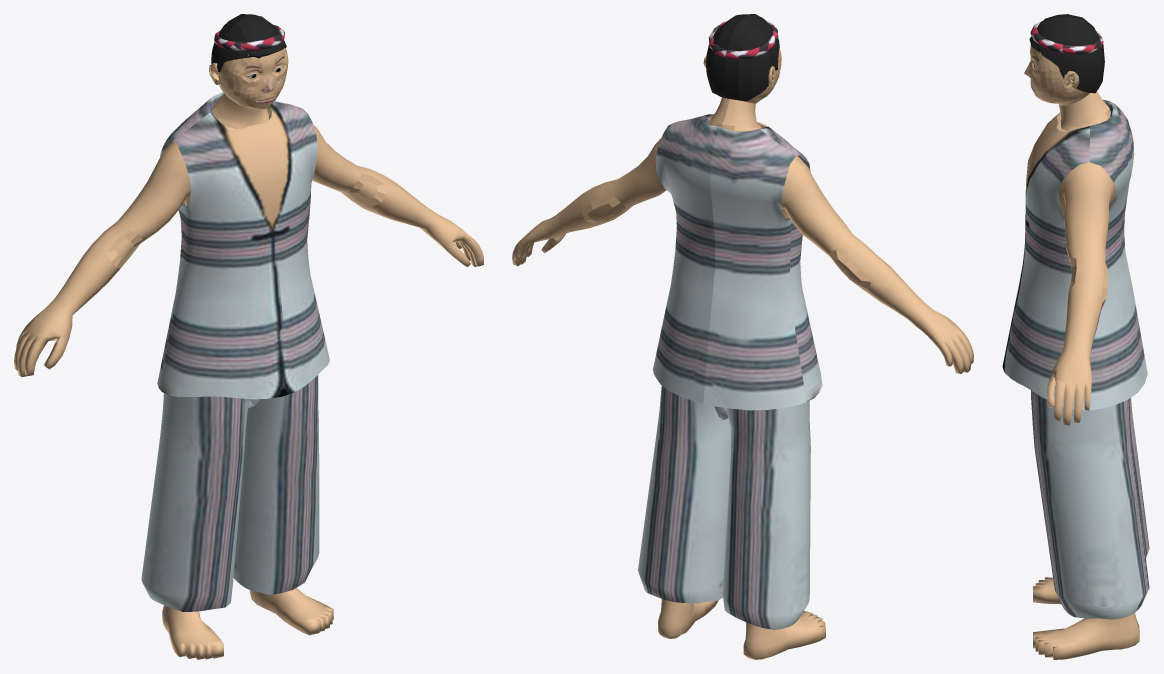
File: GouquaFaijit.fbx
The picture shows the model from 3 angles, left to right: view 1: azimuth 30°, elevation 25°; view 2: azimuth 150°, elevation 25°; view 3: azimuth 270°, elevation 25°; orthographic projection.
Parts seen in each view (by area): view 1: netherland:polySurface8, netherland:polySurface10, _ear_v1:_ear_v5, pSphere8, pTorus3; view 2: netherland:polySurface8, netherland:polySurface10, _ear_v1:_ear_v5, pSphere9, pTorus3; view 3: netherland:polySurface8, netherland:polySurface10, _ear_v1:_ear_v5, pSphere9, pSphere8, pTorus3.
Part boxes in pixels (x1=…): netherland:polySurface8: x1=157, y1=92, x2=329, y2=399; netherland:polySurface10: x1=141, y1=375, x2=319, y2=611; _ear_v1:_ear_v5: x1=14, y1=48, x2=483, y2=659; pSphere8: x1=217, y1=16, x2=286, y2=71; pTorus3: x1=214, y1=24, x2=284, y2=50; netherland:polySurface8: x1=653, y1=114, x2=822, y2=410; netherland:polySurface10: x1=638, y1=385, x2=810, y2=629; _ear_v1:_ear_v5: x1=512, y1=49, x2=973, y2=659; pSphere9: x1=706, y1=18, x2=773, y2=100; pTorus3: x1=708, y1=20, x2=778, y2=59; netherland:polySurface8: x1=1002, y1=99, x2=1147, y2=410; netherland:polySurface10: x1=1031, y1=390, x2=1149, y2=619; _ear_v1:_ear_v5: x1=1024, y1=45, x2=1139, y2=659; pSphere9: x1=1068, y1=14, x2=1104, y2=93; pSphere8: x1=1029, y1=14, x2=1068, y2=78; pTorus3: x1=1030, y1=21, x2=1103, y2=54.
Bounding box in the file's own units: 23.04 × 29.65 × 6.49.
1 material, 1 textured.
